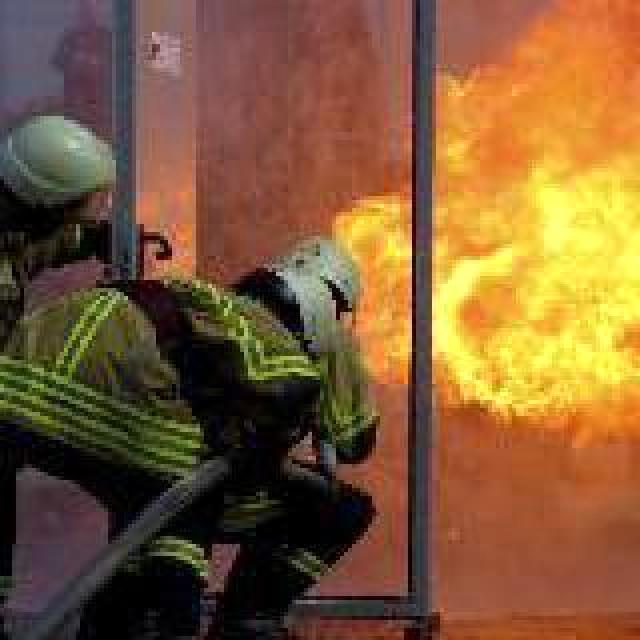fire: (312, 0, 640, 432)
